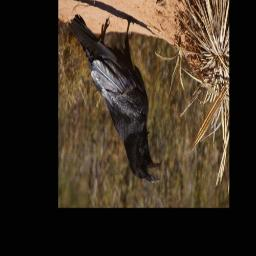Crow: (67, 14, 161, 183)
